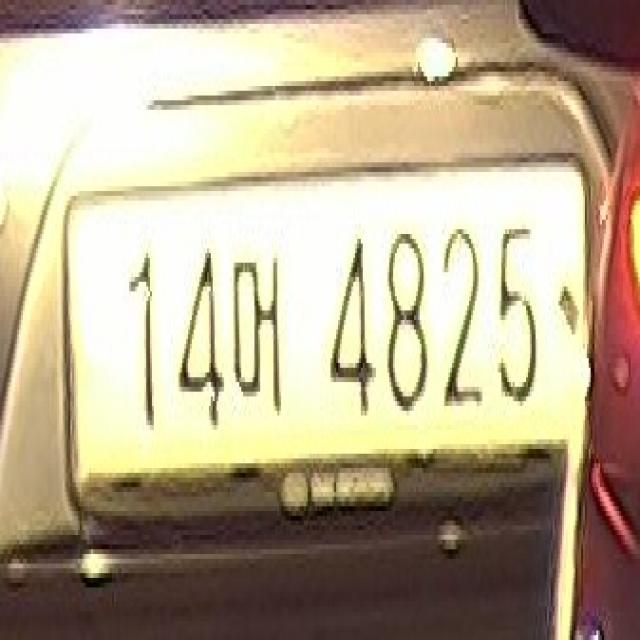1: (123, 224, 169, 449)
2: (435, 200, 488, 430)
4: (325, 196, 380, 439), (175, 229, 228, 449)
5: (488, 201, 547, 425)
8: (382, 210, 433, 430)
license_plate: (59, 133, 596, 540)
meo: (228, 215, 296, 439)
